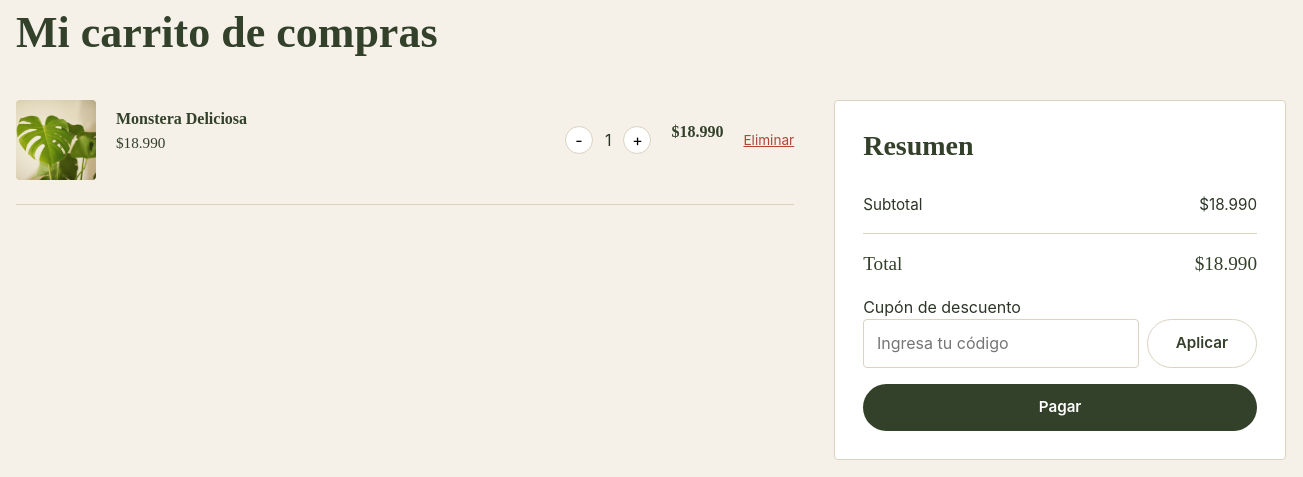
Test case: Carrito › los botones + y - cambian la cantidad y el total
Click the button named "sumar una unidad de monstera": coordinates (637, 140) [623,126,651,154]
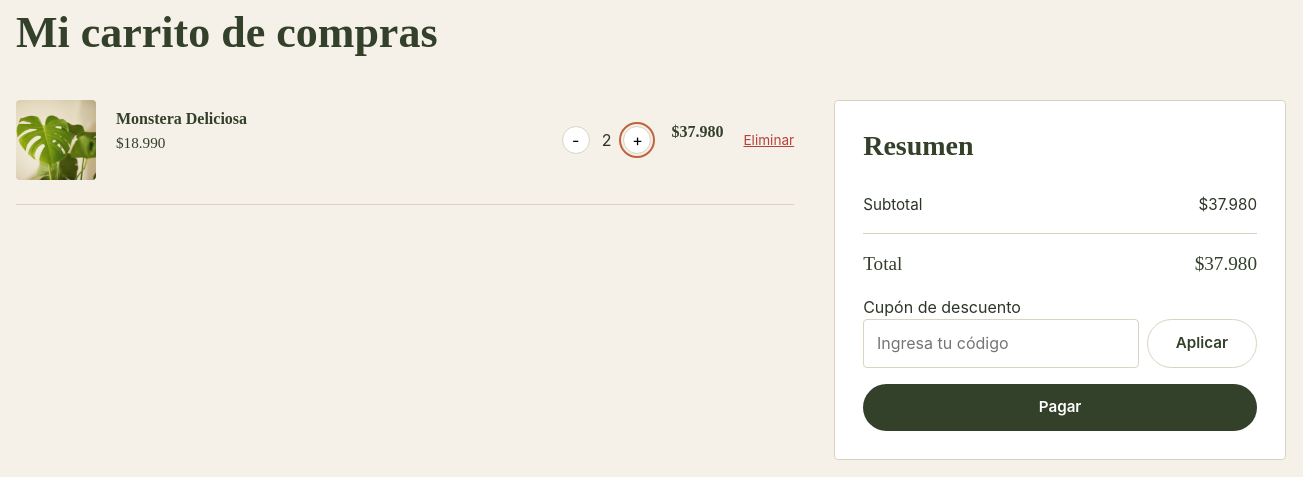
Check: the text named "Cantidad de Monstera Deliciosa" reads "2", box [602,130,612,150]
Check: the text with test id "carrito-total" reads "$37.980", box [1195,253,1257,274]
Click the button named "restar una unidad de monstera": coordinates (576, 140) [562,126,590,154]
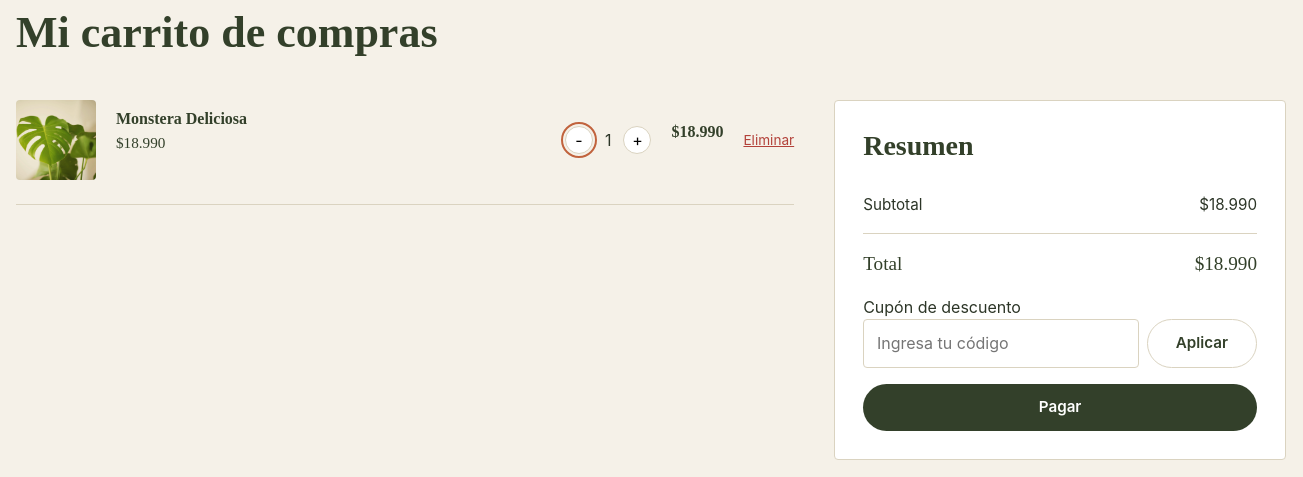
Check: the text named "Cantidad de Monstera Deliciosa" reads "1", box [605,130,611,150]
Check: the text with test id "carrito-total" reads "$18.990", box [1195,253,1257,274]
